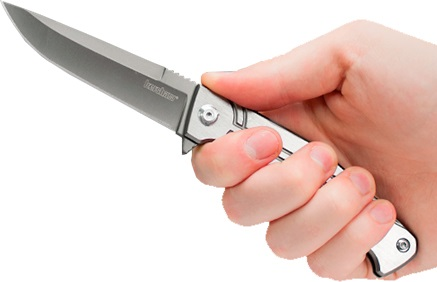knife: (1, 1, 328, 199)
